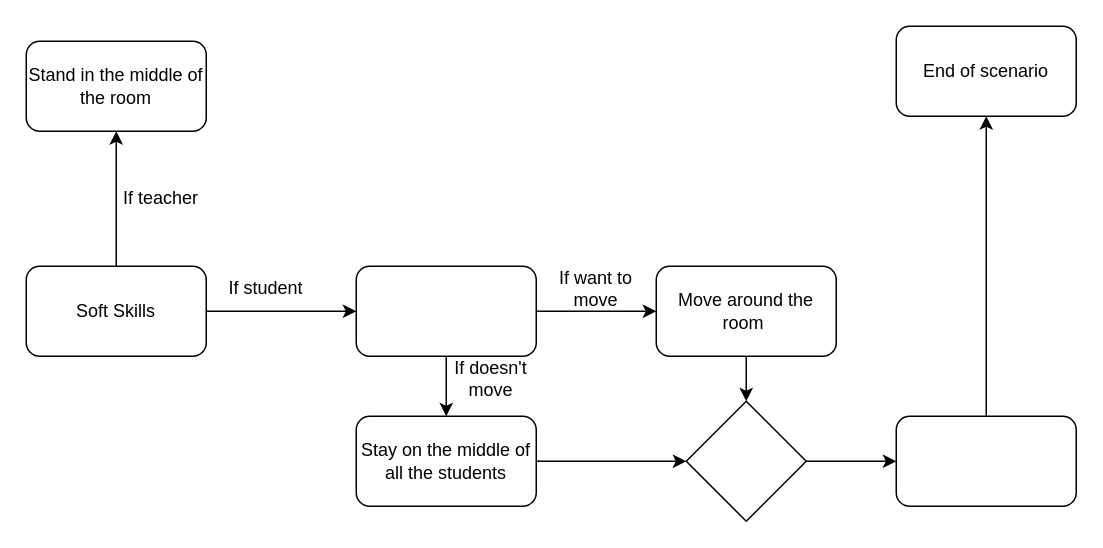
Image size: 1103x548. Some labels were removed from this diagram. Here are the shapes that lost their labels. From the top down, the centre of each, then its label:
At point (445, 310): "Go to the soft skills room".
At point (745, 460): "Class is over".
At point (985, 460): "Leave the room".
